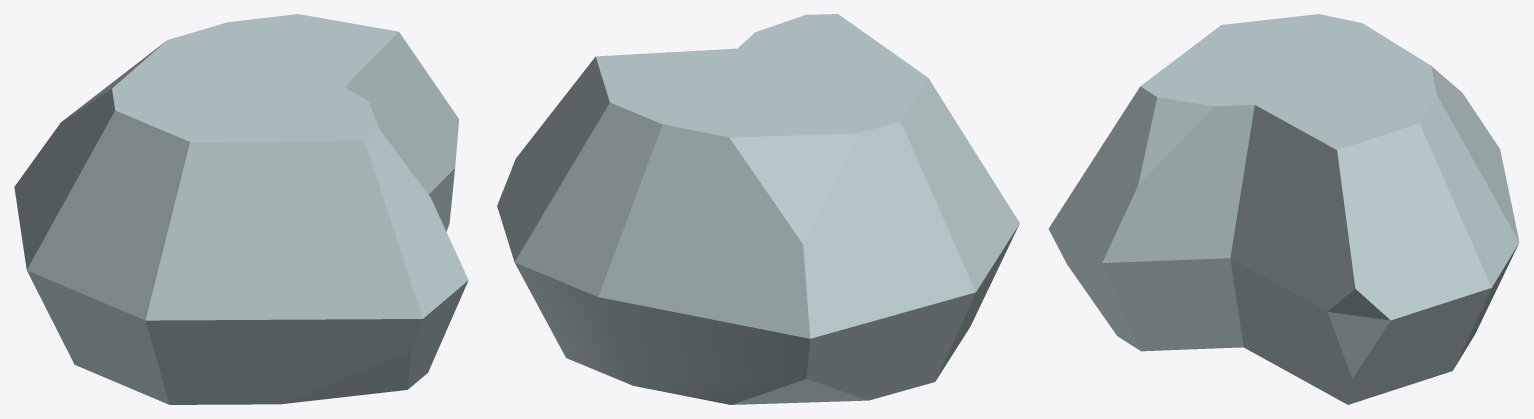
File: stone_largeD.glb
3 renders of one model, left to right at view 1: azimuth 30°, elevation 25°; view 2: azimuth 150°, elevation 25°; view 3: azimuth 270°, elevation 25°, orthographic. The views are drawn at different scales.
Visible parts, largest first — view 1: stone_largeD; view 2: stone_largeD; view 3: stone_largeD.
Boxes of the visible parts, left/top/right/bottom form: stone_largeD: left=14, top=14, right=468, bottom=404; stone_largeD: left=497, top=14, right=1019, bottom=404; stone_largeD: left=1048, top=14, right=1519, bottom=404.
Size of the model in its own units: 1.07 by 0.5683 by 1.03.
